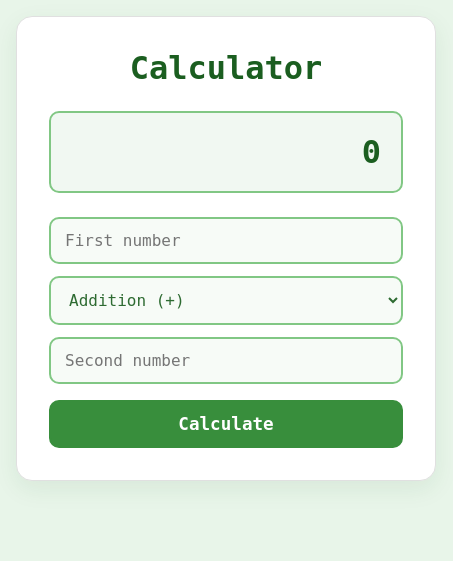
Test: shows an error when the API returns an error
The width and height of the screenshot is (453, 561).
Step 1. Type "10" into the number field with placeholder "First number" → (226, 240), box [49,217,403,264]
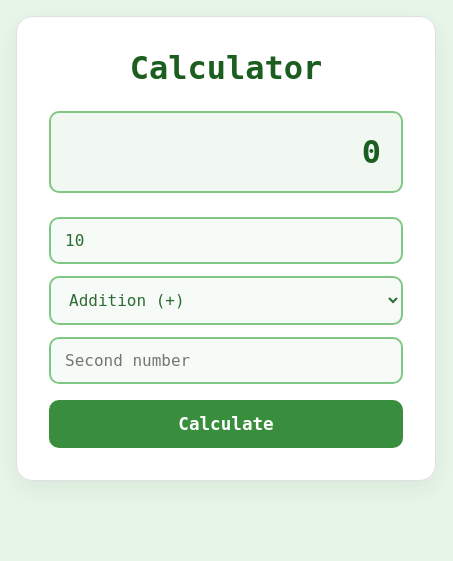
Step 2. Type "0" into the number field with placeholder "Second number" → (226, 360), box [49,337,403,384]
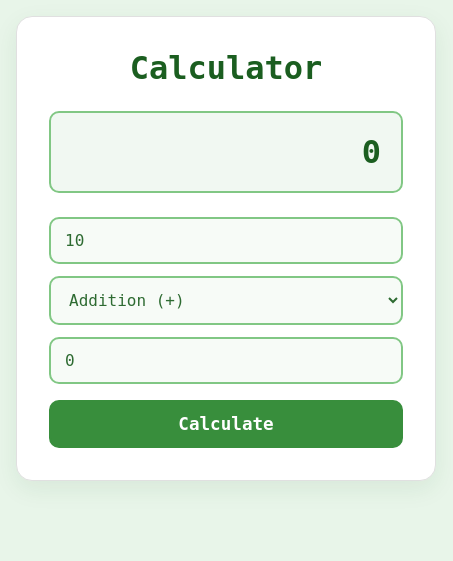
Step 3. Click the button "Calculate" → (226, 424), box [49,400,403,448]
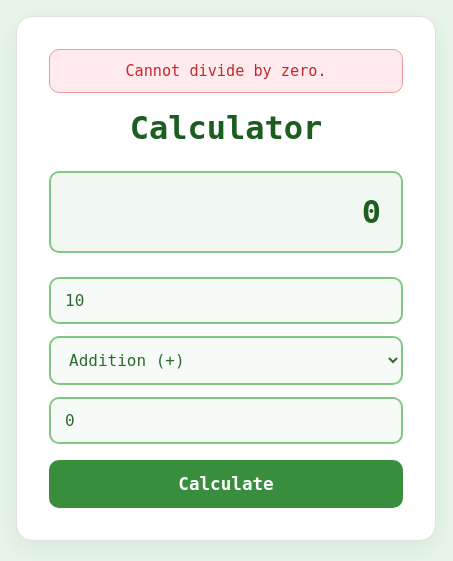
Result: the text "Cannot divide by zero." is shown at [49,49,403,93]
